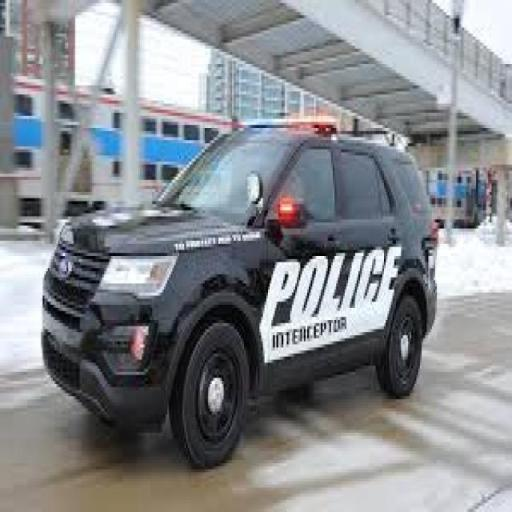Ambulance: (38, 107, 440, 463)
